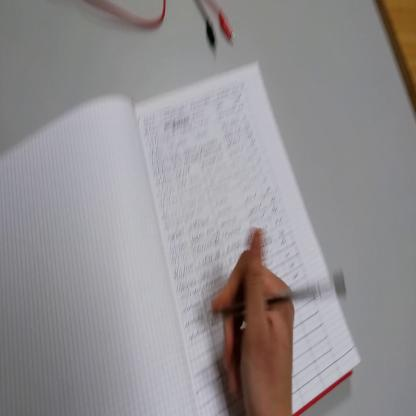hand: (213, 237, 298, 414)
register: (1, 60, 359, 416)
